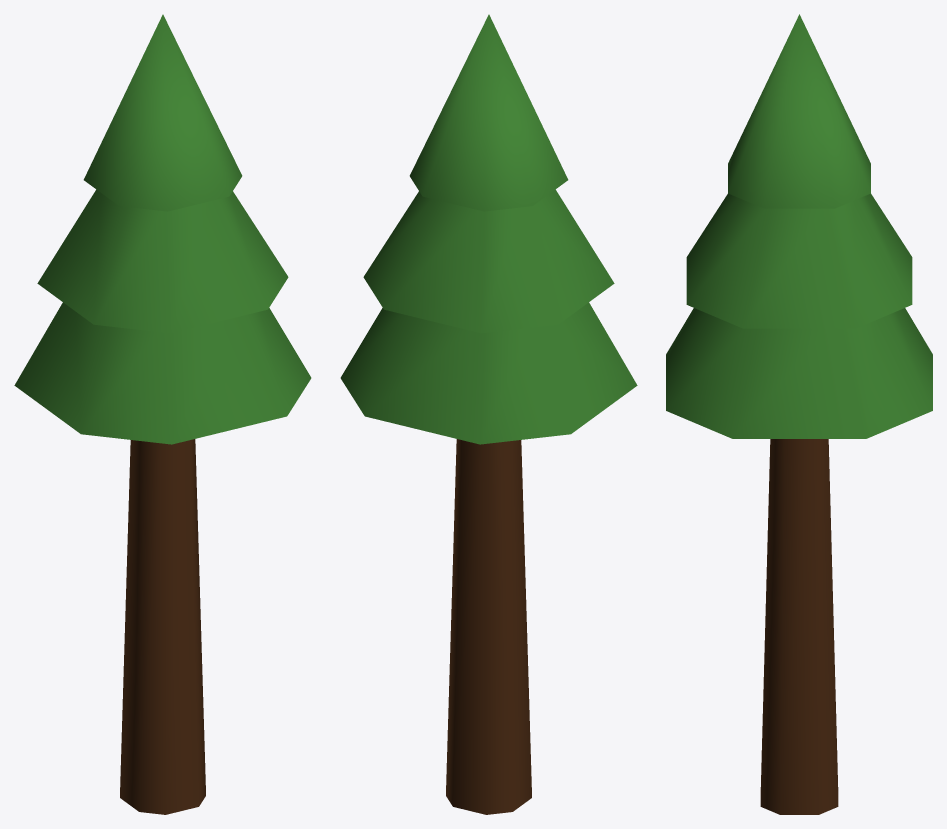
File: tree-tall.fbx
The picture shows the model from 3 angles, left to right: view 1: azimuth 30°, elevation 25°; view 2: azimuth 150°, elevation 25°; view 3: azimuth 270°, elevation 25°; orthographic projection.
Parts seen in each view (by area): view 1: tree-tall; view 2: tree-tall; view 3: tree-tall.
Boxes of the visible parts, <box> form: tree-tall: <box>14,14,311,814</box>; tree-tall: <box>340,14,637,814</box>; tree-tall: <box>666,14,932,814</box>.
Bounding box in the file's own units: 0.75 × 2.43 × 0.75.
